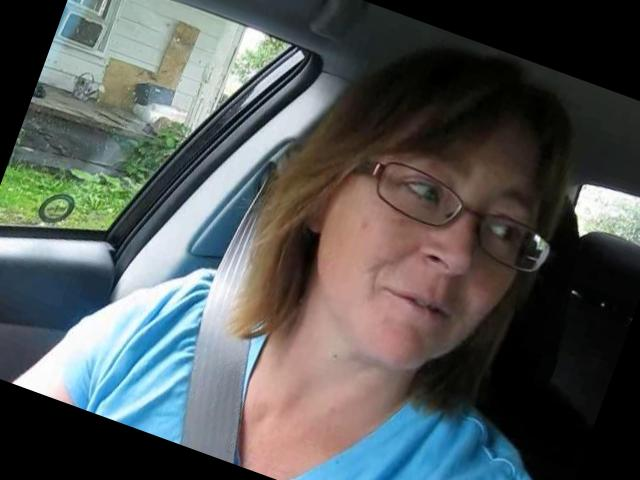eye_open: (386, 164, 460, 220), (472, 208, 534, 262)
face: (277, 110, 556, 405)
